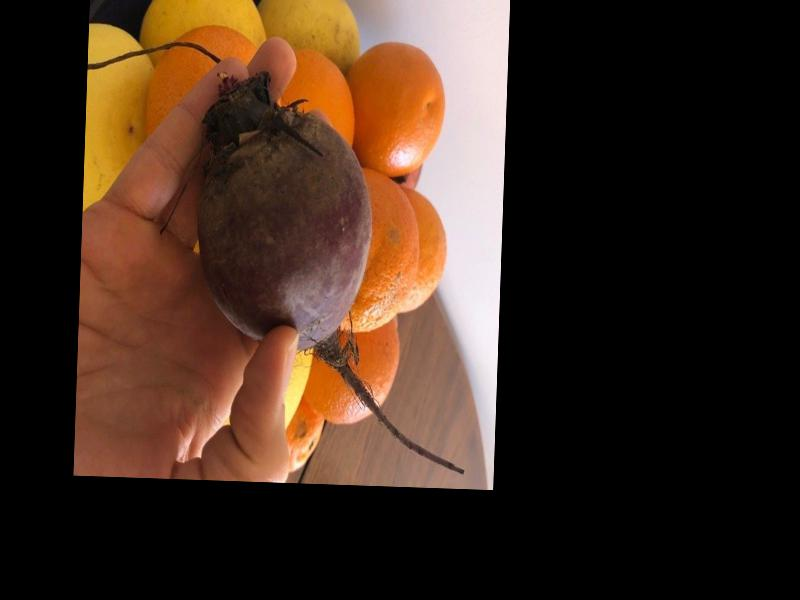Beet: (189, 76, 477, 473)
